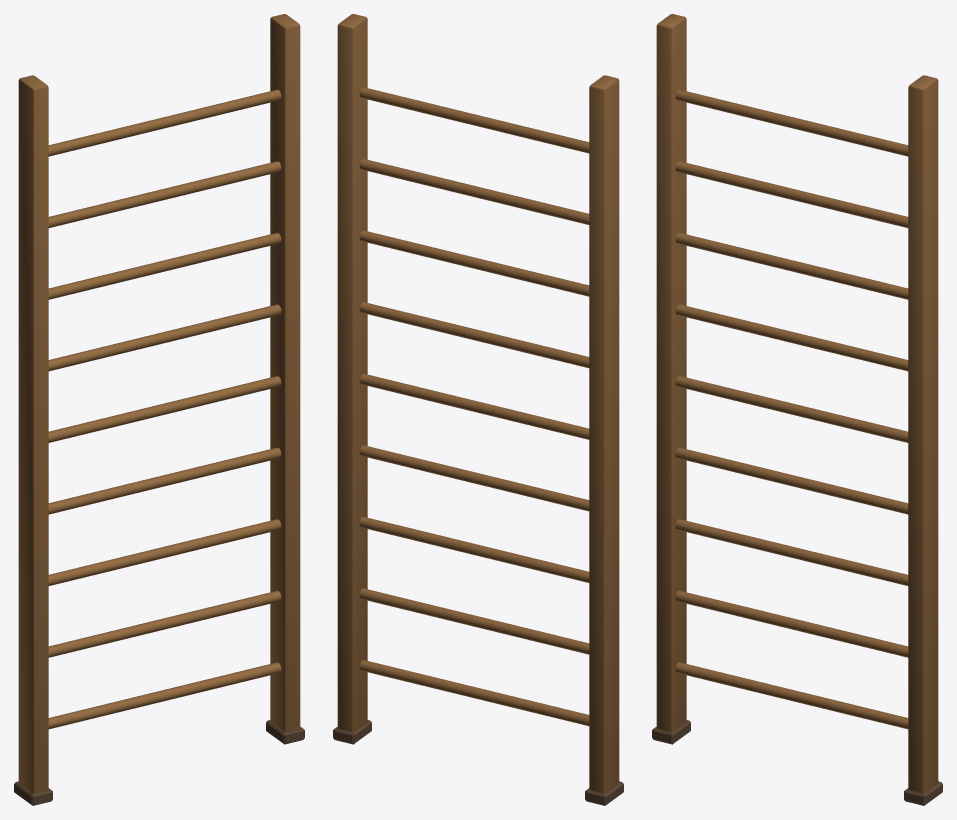
The model's file is wall-bars.glb.
3 views of the same model, side by side, from view 1: azimuth 30°, elevation 25°; view 2: azimuth 150°, elevation 25°; view 3: azimuth 330°, elevation 25° (orthographic).
Visible parts, largest first — view 1: wall-bars; view 2: wall-bars; view 3: wall-bars.
Boxes of the visible parts, bbox=[...] form: wall-bars: bbox=[14, 14, 304, 805]; wall-bars: bbox=[333, 14, 623, 805]; wall-bars: bbox=[652, 14, 942, 805].
Bounding box in the file's own units: 1 × 2.5 × 0.12.
